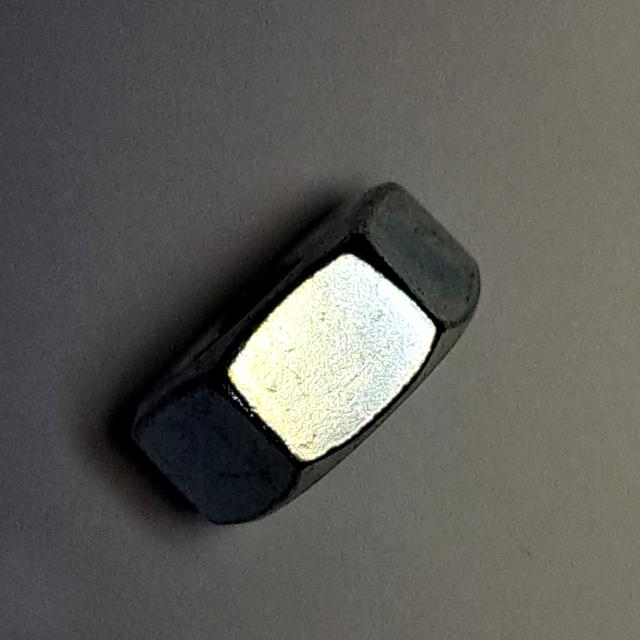Side_Excellent: (110, 162, 491, 539)
